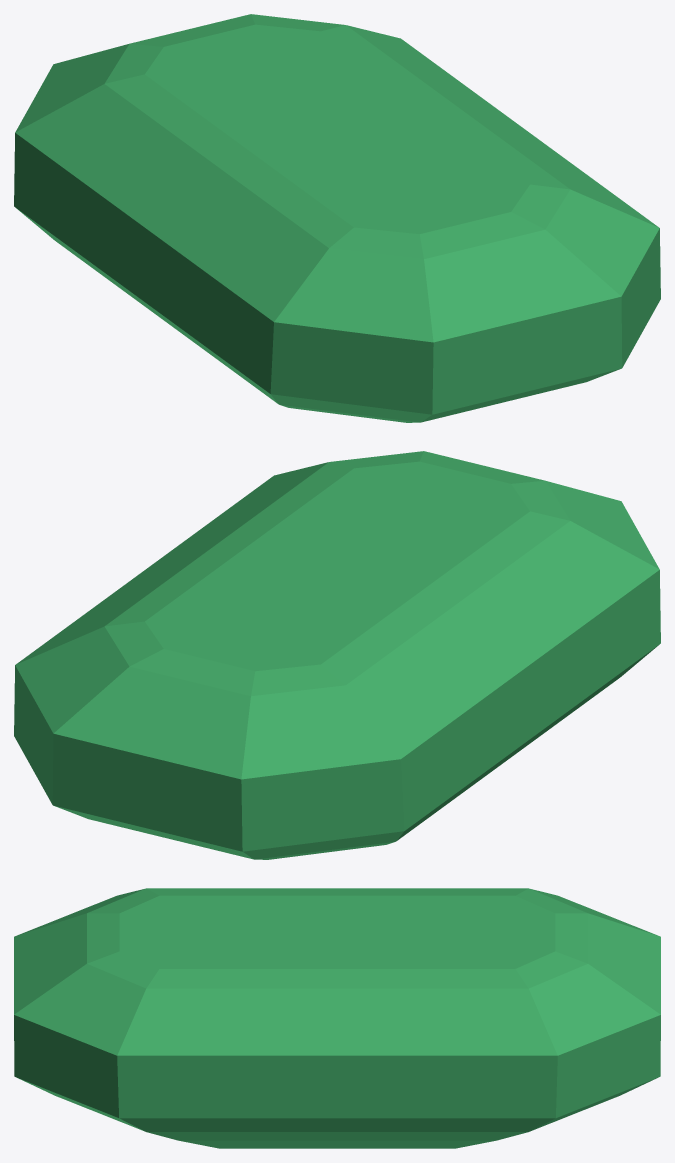
File: Emrald_3.fbx
3 views of the same model, one above another, from view 1: azimuth 30°, elevation 25°; view 2: azimuth 150°, elevation 25°; view 3: azimuth 270°, elevation 25° (orthographic). The views are drawn at different scales.
Parts seen in each view (by area): view 1: Octagon; view 2: Octagon; view 3: Octagon.
Boxes of the visible parts, x1=… form: Octagon: x1=14, y1=14, x2=660, y2=422; Octagon: x1=14, y1=451, x2=660, y2=859; Octagon: x1=14, y1=888, x2=660, y2=1148.
Bounding box in the file's own units: 1.28 × 0.635 × 2.16.
Materials: 1 (1 with a texture image).
